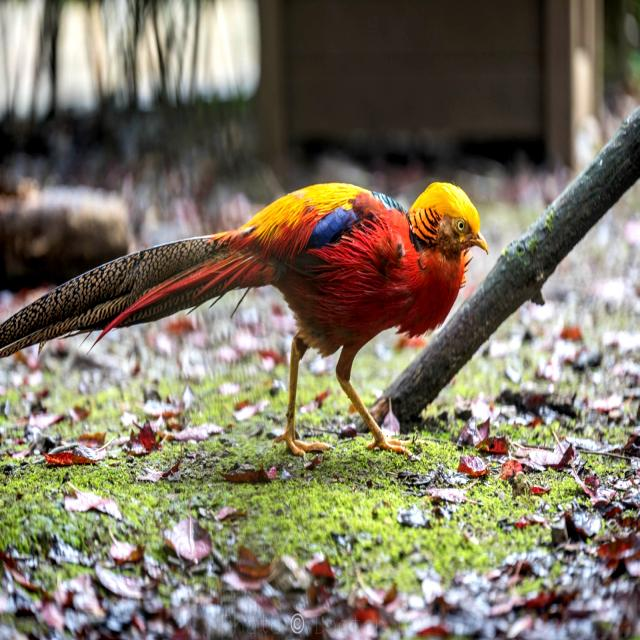Chrysolophus pictus feather: (0, 236, 228, 357), (119, 291, 205, 327)
